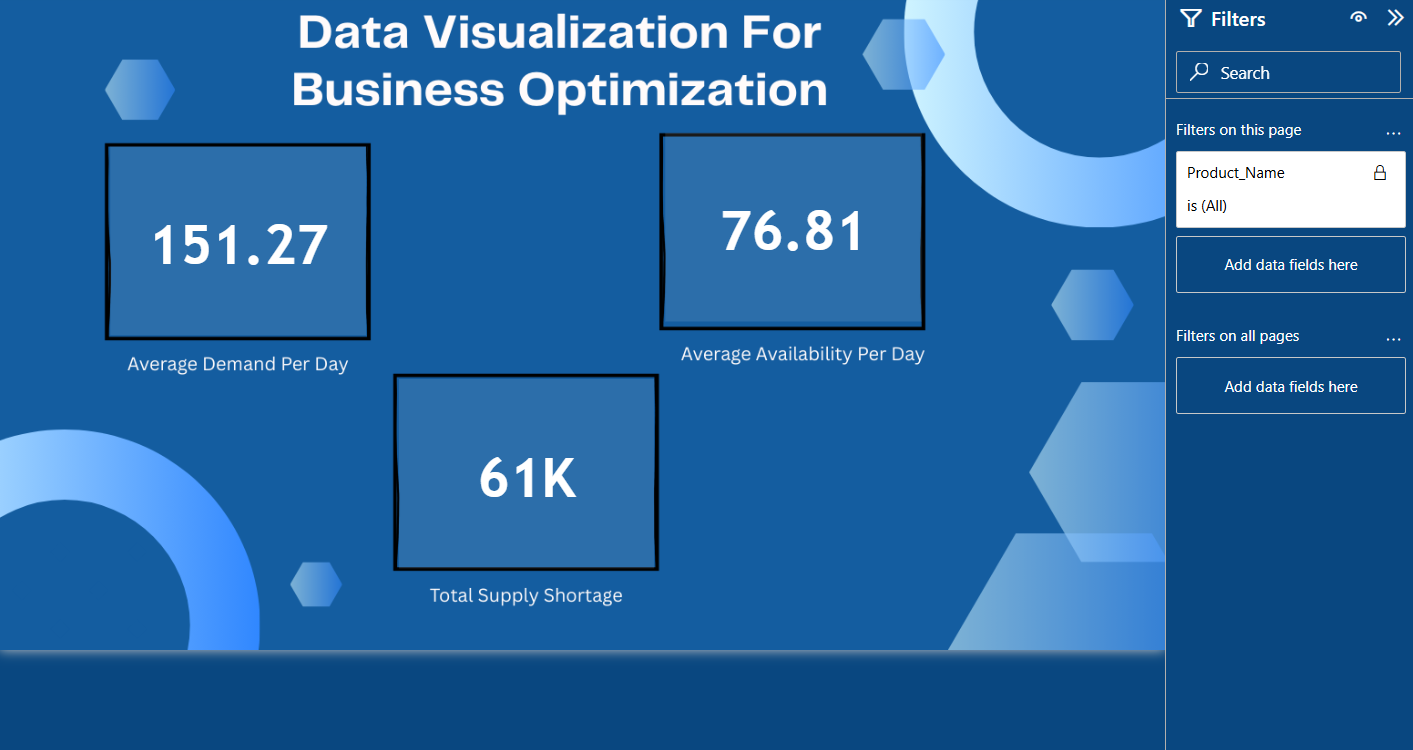

Layout of this report page (visuals, bound fields, positions):
{"tool":"powerbi","page":{"name":"Page 1","canvas":[1280,720],"ordinal":0},"visuals":[{"type":"card","fields":{"Values":["Measure Table.Average Demand Per Day"]},"box":[122.6,167.9,281,207.1],"z":0},{"type":"card","fields":{"Values":["Measure Table.Average Availability Per Day"]},"box":[731,152.7,281.3,206.8],"z":1000},{"type":"card","fields":{"Values":["Measure Table.Total Supply Shortage"]},"box":[438.9,423.2,280.1,208],"z":2000}]}

Visuals, with their boxes on the page's 1280x720 design canvas (x1, y1, x2, y2). These are canvas units, not pixel positions in the 1413x750 screenshot, which may show the page scaled, cropped or inside an application window:
card - Measure Table.Average Demand Per Day: left=123, top=168, right=404, bottom=375
card - Measure Table.Average Availability Per Day: left=731, top=153, right=1012, bottom=360
card - Measure Table.Total Supply Shortage: left=439, top=423, right=719, bottom=631
